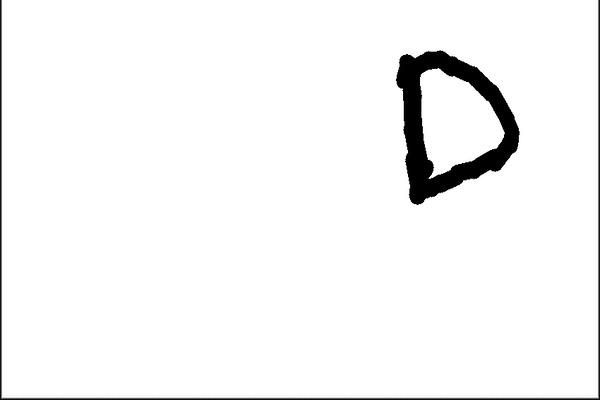D: (390, 46, 524, 205)
